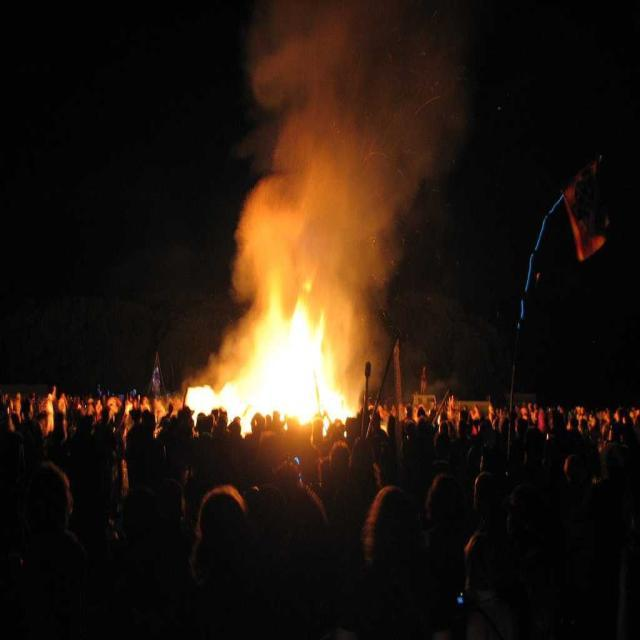Fire: (248, 320, 324, 408)
Smoke: (265, 8, 420, 228)
